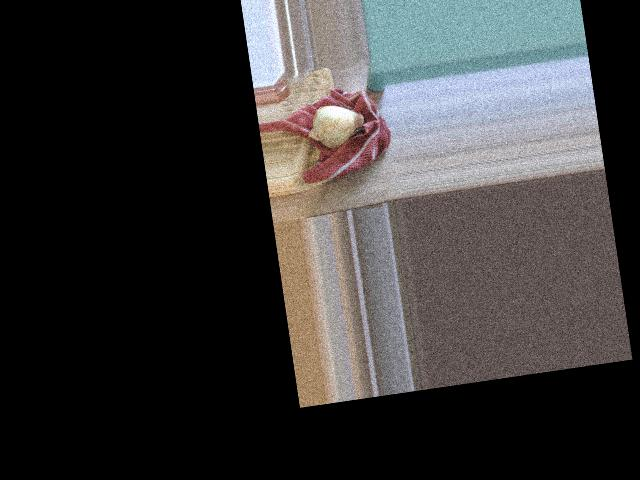onion: (308, 98, 364, 152)
